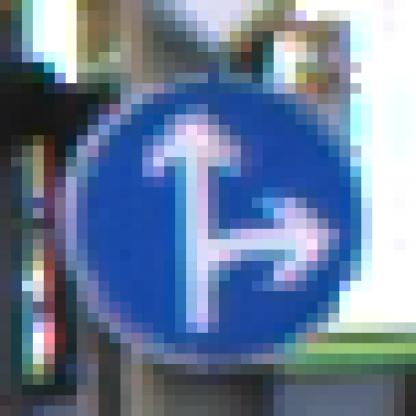Straight or Right: (56, 53, 362, 355)
